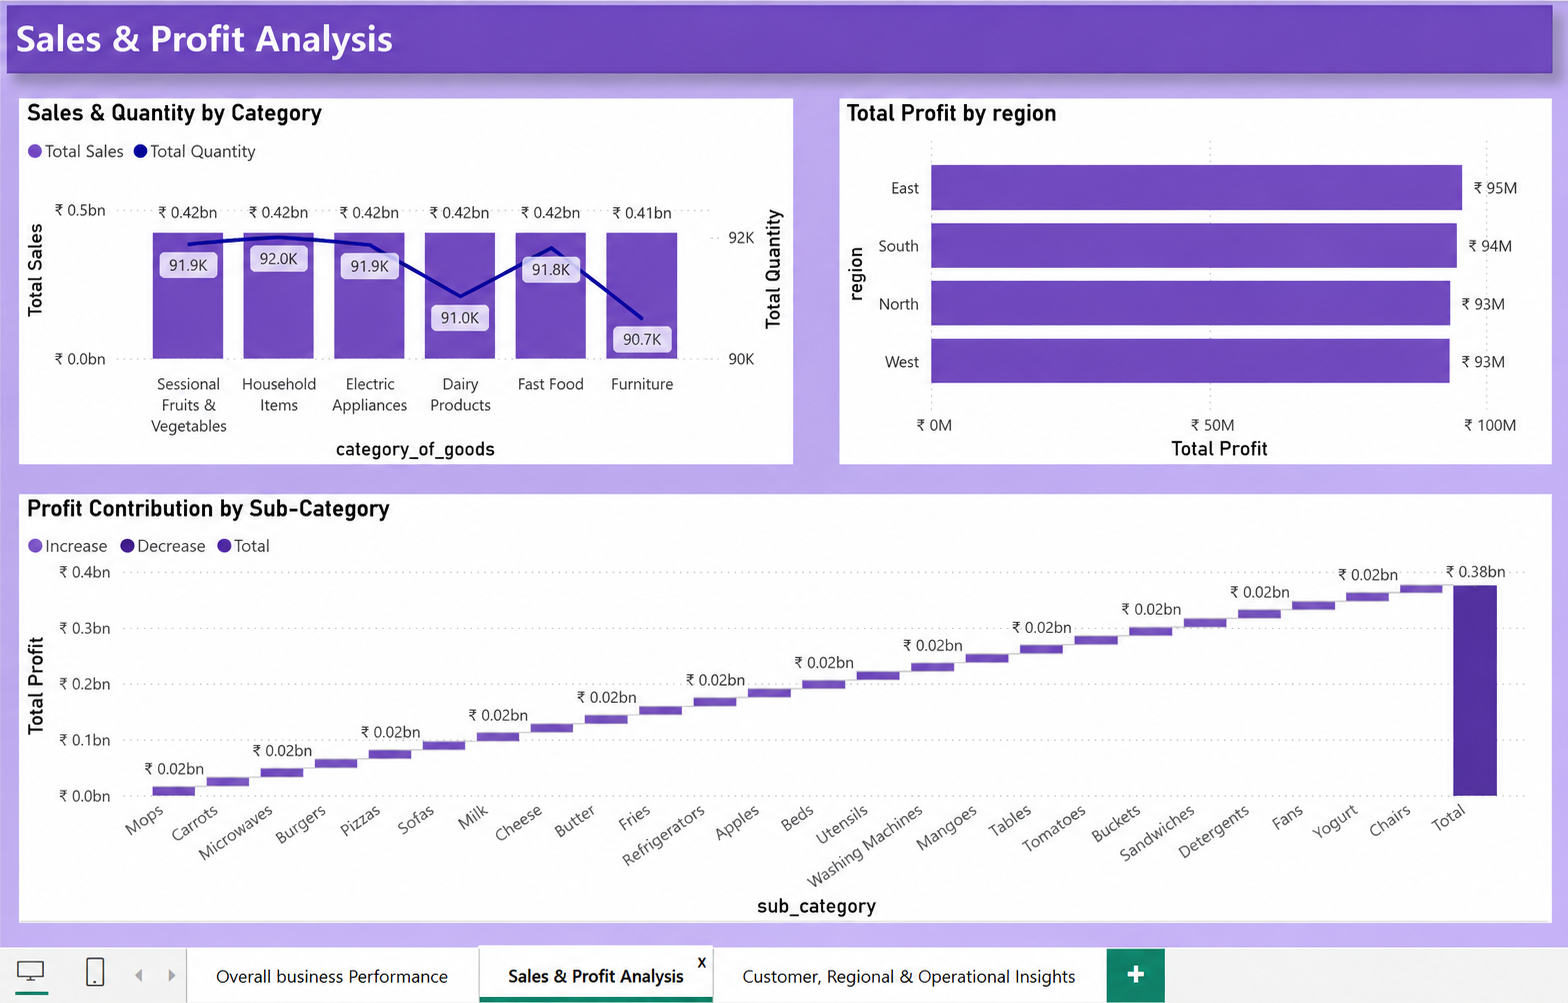

Layout of this report page (visuals, bound fields, positions):
{"tool":"powerbi","page":{"name":"Sales & Profit Analysis","canvas":[1280,720],"ordinal":1},"visuals":[{"type":"lineClusteredColumnComboChart","title":"Sales & Quantity by Category","fields":{"Y":["_measurement_table.Total Sales"],"Category":["dim_product_table.category_of_goods"],"Y2":["_measurement_table.Total Quantity"]},"box":[19.9,79.6,587.4,278.8],"z":0},{"type":"waterfallChart","title":"Profit Contribution by Sub-Category","fields":{"Category":["dim_product_table.sub_category"],"Y":["_measurement_table.Total Profit"]},"box":[70,372.5,1117.5,335],"z":1000},{"type":"clusteredBarChart","fields":{"Category":["dim_location_table.region"],"Y":["_measurement_table.Total Profit"]},"box":[705.4,79.6,546.1,280.2],"z":2000},{"type":"textbox","box":[7.1,10.7,701.2,48.1],"z":3000}]}

Visuals, with their boxes on the page's 1280x720 design canvas (x1, y1, x2, y2). These are canvas units, not pixel positions in the 1568x1003 screenshot, which may show the page scaled, cropped or inside an application window:
"Sales & Quantity by Category" lineClusteredColumnComboChart: [20,80,607,358]
"Profit Contribution by Sub-Category" waterfallChart: [70,372,1188,708]
clusteredBarChart - dim_location_table.region x _measurement_table.Total Profit: [705,80,1252,360]
textbox: [7,11,708,59]
